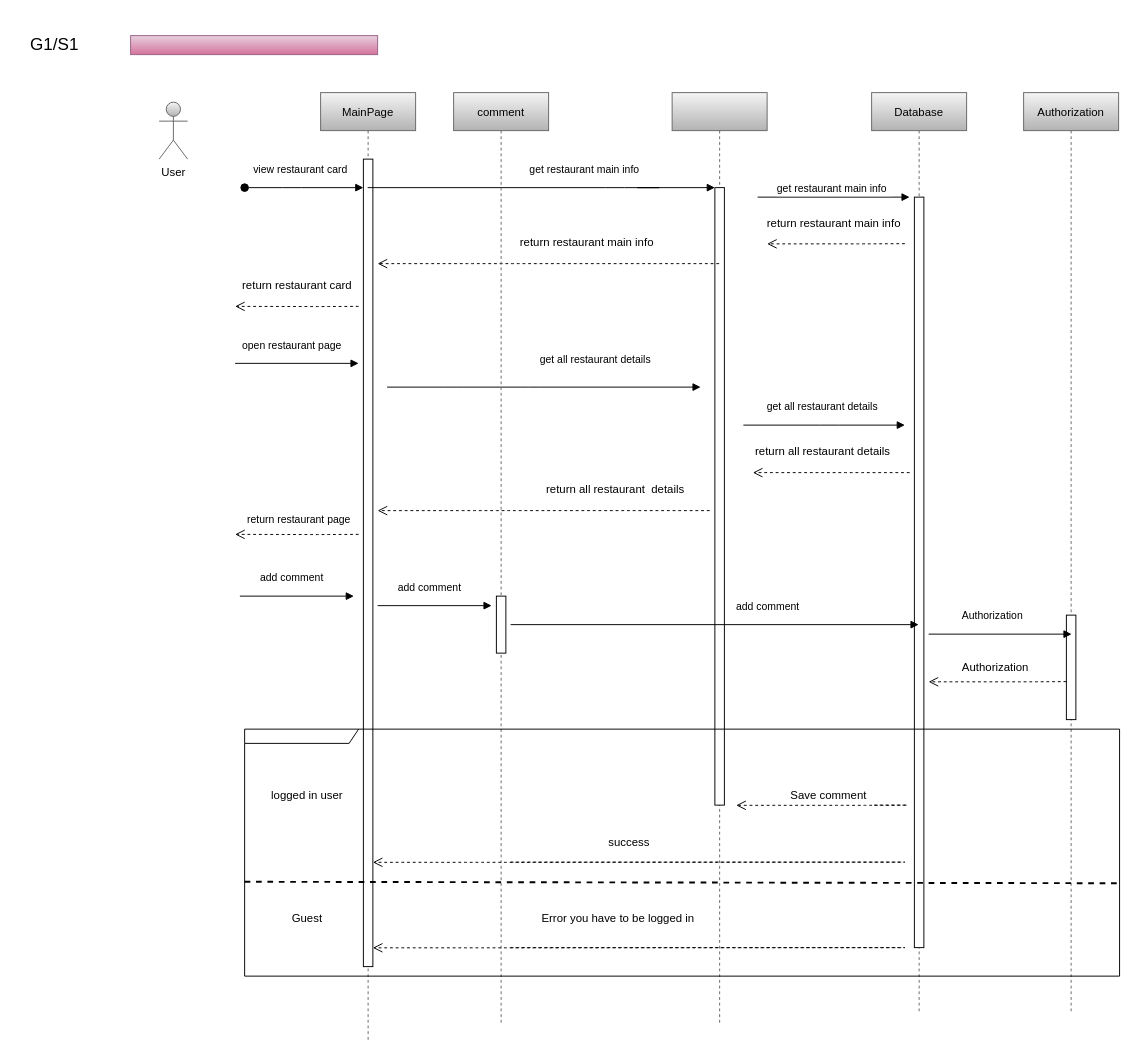
This 1137x1059 diagram has some shape labels left out. Each missing label, with the box of its shape:
Alt Authorization: (244, 728, 1120, 976)
Restaurant: (671, 92, 767, 1024)
Restaurant Rating and Review System: (130, 35, 378, 55)
